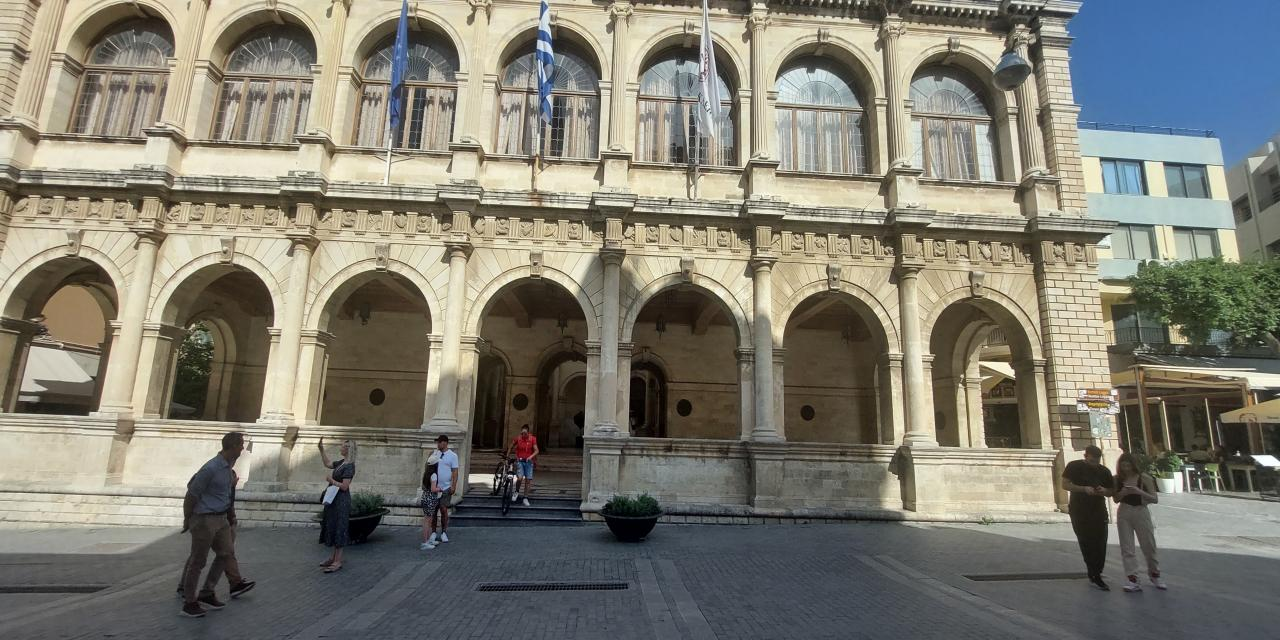Loggia: (1, 1, 1149, 517)
